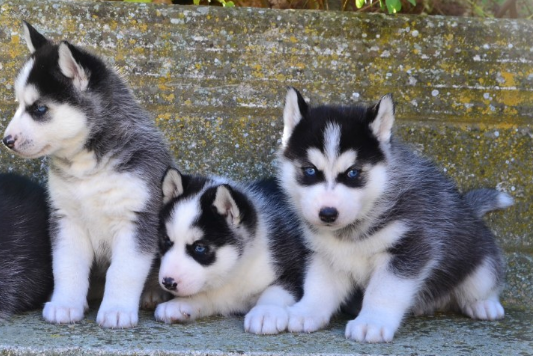husky: (271, 74, 512, 333), (5, 13, 153, 332), (150, 162, 264, 322)
